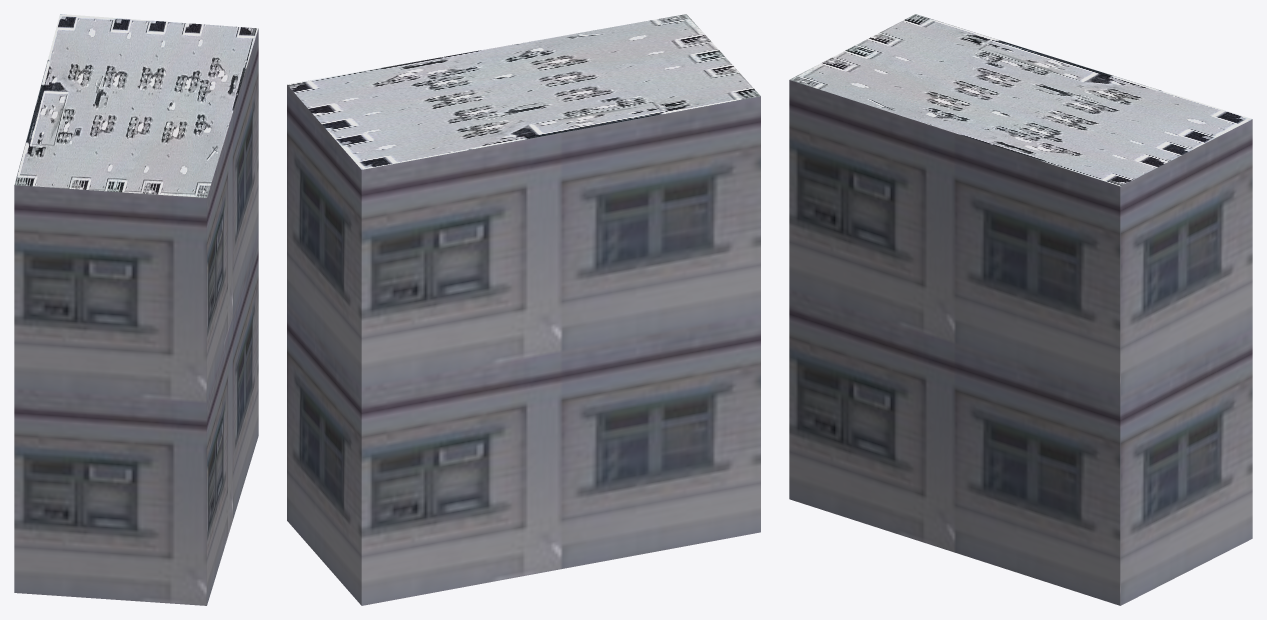
The model's file is ResTex__1422.fbx.
3 renders of one model, left to right at view 1: azimuth 30°, elevation 25°; view 2: azimuth 150°, elevation 25°; view 3: azimuth 270°, elevation 25°, orthographic. The views are drawn at different scales.
Visible parts, largest first — view 1: CityEngineMaterial_1_m, CityEngineMaterial_m; view 2: CityEngineMaterial_1_m, CityEngineMaterial_m; view 3: CityEngineMaterial_1_m, CityEngineMaterial_m.
Part boxes in pixels (bbox=[...]): CityEngineMaterial_1_m: bbox=[14, 29, 258, 605]; CityEngineMaterial_m: bbox=[14, 14, 258, 197]; CityEngineMaterial_1_m: bbox=[287, 85, 760, 605]; CityEngineMaterial_m: bbox=[287, 14, 760, 169]; CityEngineMaterial_1_m: bbox=[789, 80, 1252, 605]; CityEngineMaterial_m: bbox=[789, 14, 1252, 186].
Size of the model in its own units: 5.29 by 6 by 6.01.
Materials: 2 (2 with a texture image).
